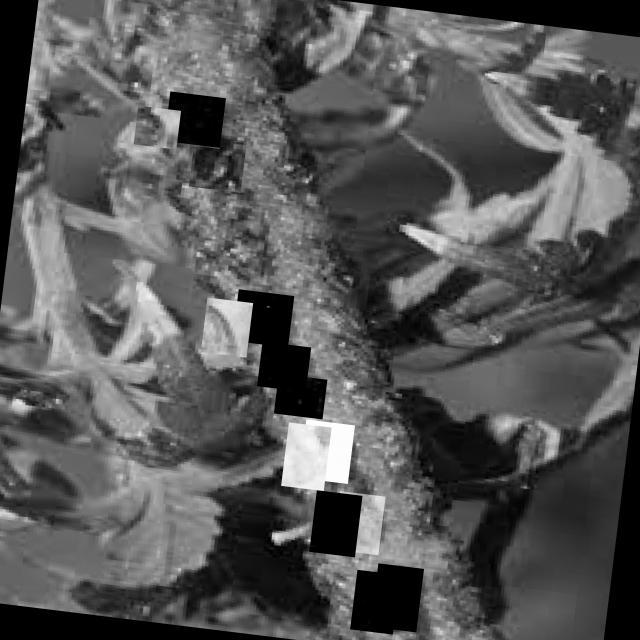scale_insect: (297, 418, 353, 484), (370, 562, 422, 632), (308, 490, 362, 557), (232, 289, 294, 347), (162, 91, 225, 147), (280, 422, 330, 491), (332, 490, 384, 554), (188, 134, 245, 192), (348, 569, 398, 634), (200, 297, 252, 357), (256, 341, 310, 392), (272, 373, 326, 419), (132, 105, 180, 149)
